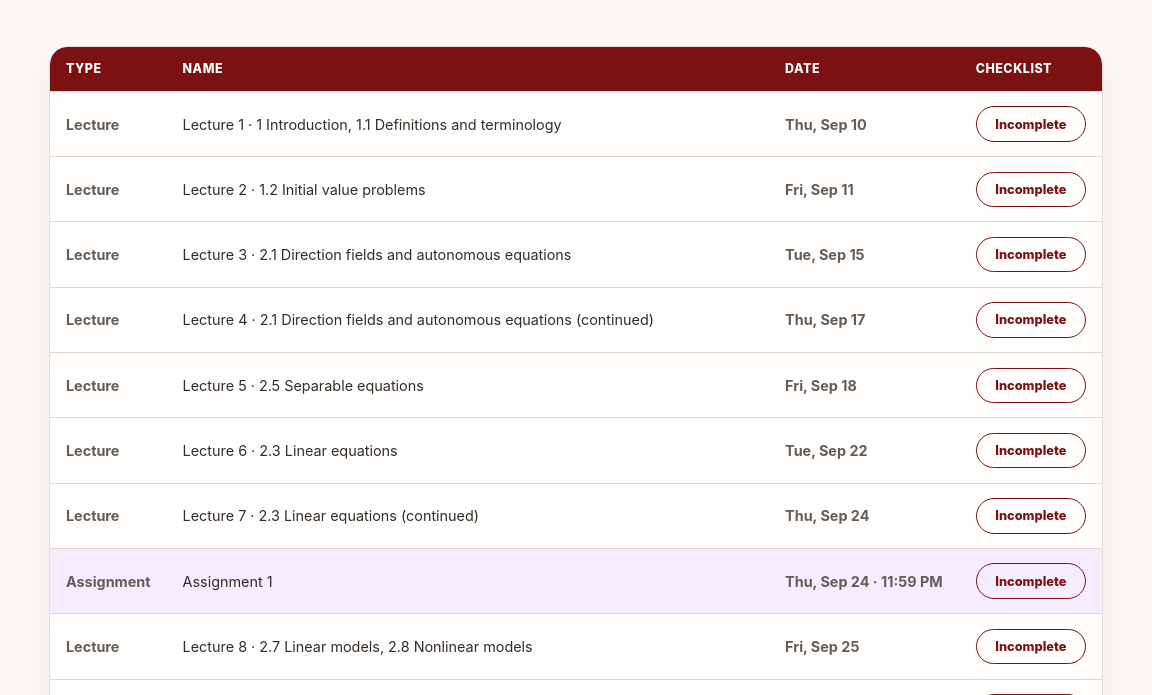
Test case: TasksTable › renders the four-column 51-row schedule and saves completion
Expected: the column headings read "Type", "Name", "Date", "Checklist", in this order, [50, 47, 167, 91]; [166, 47, 769, 91]; [769, 47, 960, 91]; [960, 47, 1102, 91]
Click the button with aria-label "Mark Assignment 1 completed" at (1031, 581), box [976, 563, 1086, 599]
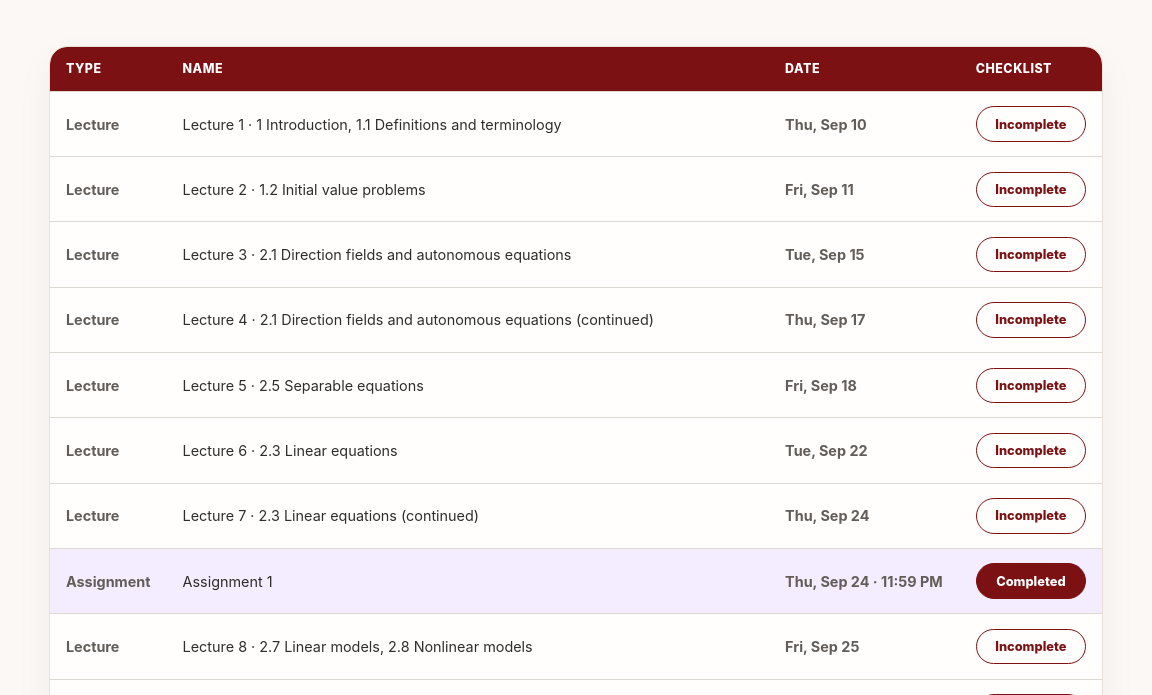
Expected: the button named "Mark Assignment 1 completed" reads "Completed", [976, 563, 1086, 599]
